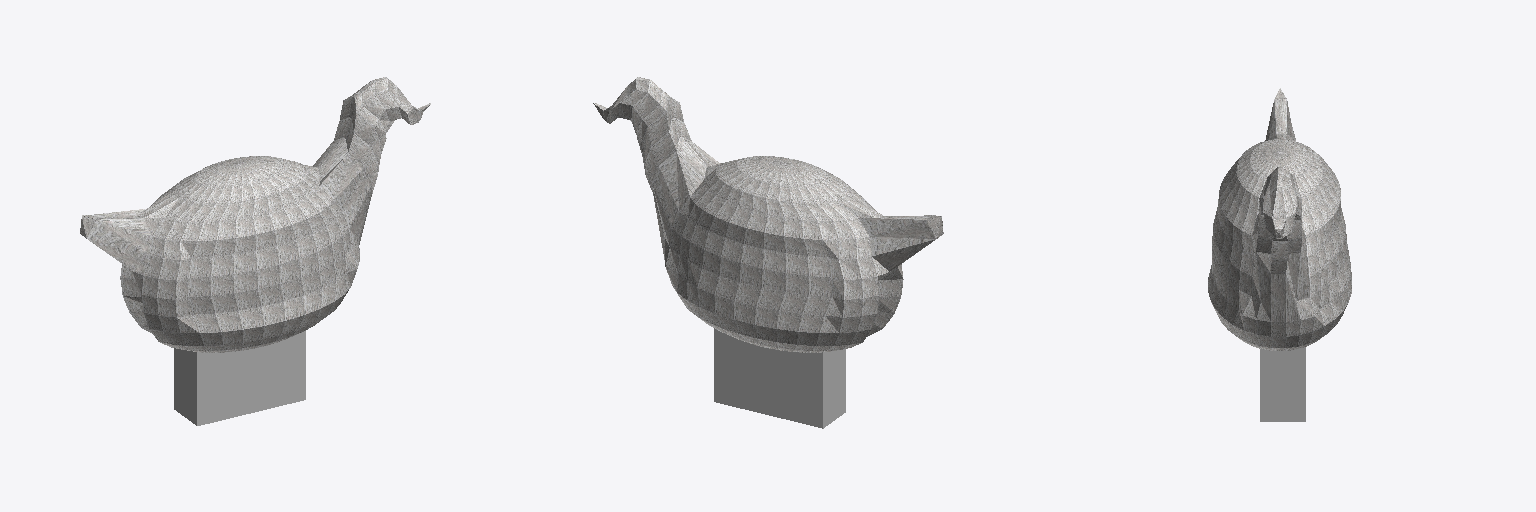
3 views of the same model, side by side, from view 1: azimuth 30°, elevation 25°; view 2: azimuth 150°, elevation 25°; view 3: azimuth 270°, elevation 25° (orthographic).
Parts seen in each view (by area): view 1: Sphere, Cube; view 2: Sphere, Cube; view 3: Sphere, Cube.
Boxes of the visible parts, box(x1,y1,x2,y2) form: Sphere: box(80, 77, 430, 352); Cube: box(174, 331, 305, 425); Sphere: box(593, 77, 943, 352); Cube: box(714, 328, 845, 428); Sphere: box(1208, 88, 1351, 350); Cube: box(1260, 347, 1305, 421).
Bounding box in the file's own units: 0.4236 × 0.3396 × 0.1521.
Materials: 2 (1 with a texture image).